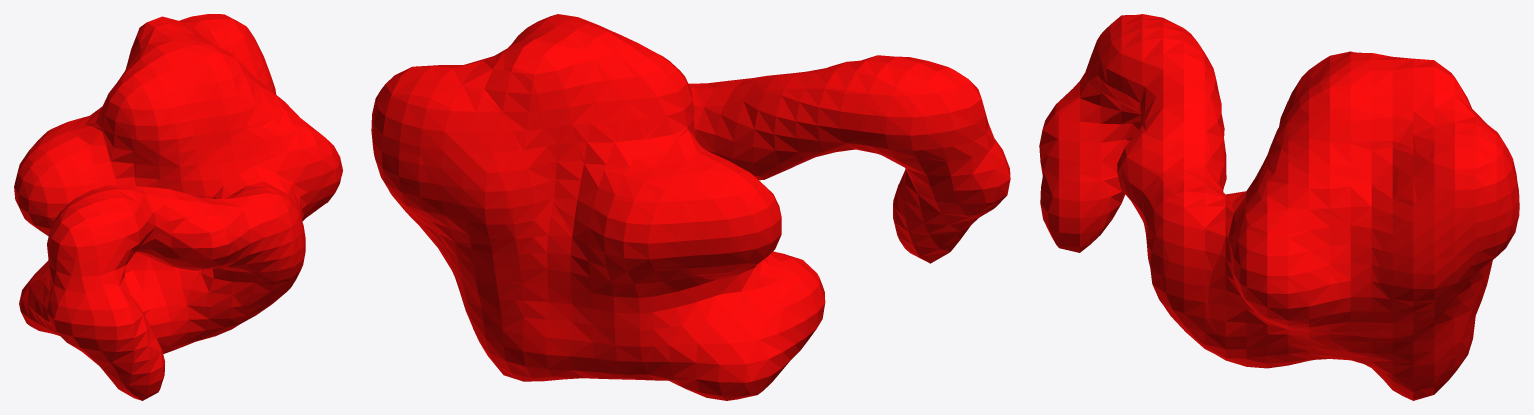
Rendered from hfq_coarse.dae.
3 renders of one model, left to right at view 1: azimuth 30°, elevation 25°; view 2: azimuth 150°, elevation 25°; view 3: azimuth 270°, elevation 25°, orthographic. The views are drawn at different scales.
Visible parts, largest first — view 1: hfq; view 2: hfq; view 3: hfq.
Boxes of the visible parts, x1,y1,x2,y2 form: hfq: [14, 14, 342, 400]; hfq: [371, 14, 1010, 400]; hfq: [1039, 14, 1519, 400].
Bounding box in the file's own units: 48.97 × 34.77 × 46.61.
